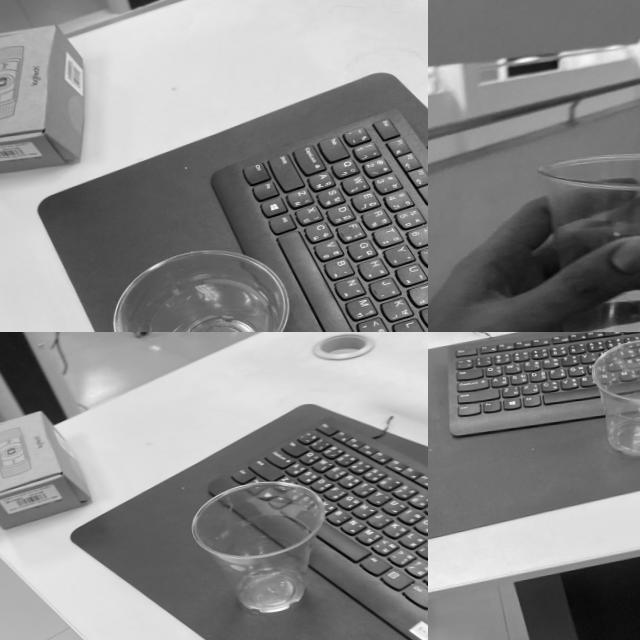glass: (514, 140, 640, 332), (187, 477, 338, 623), (107, 246, 304, 332), (588, 336, 640, 469)
